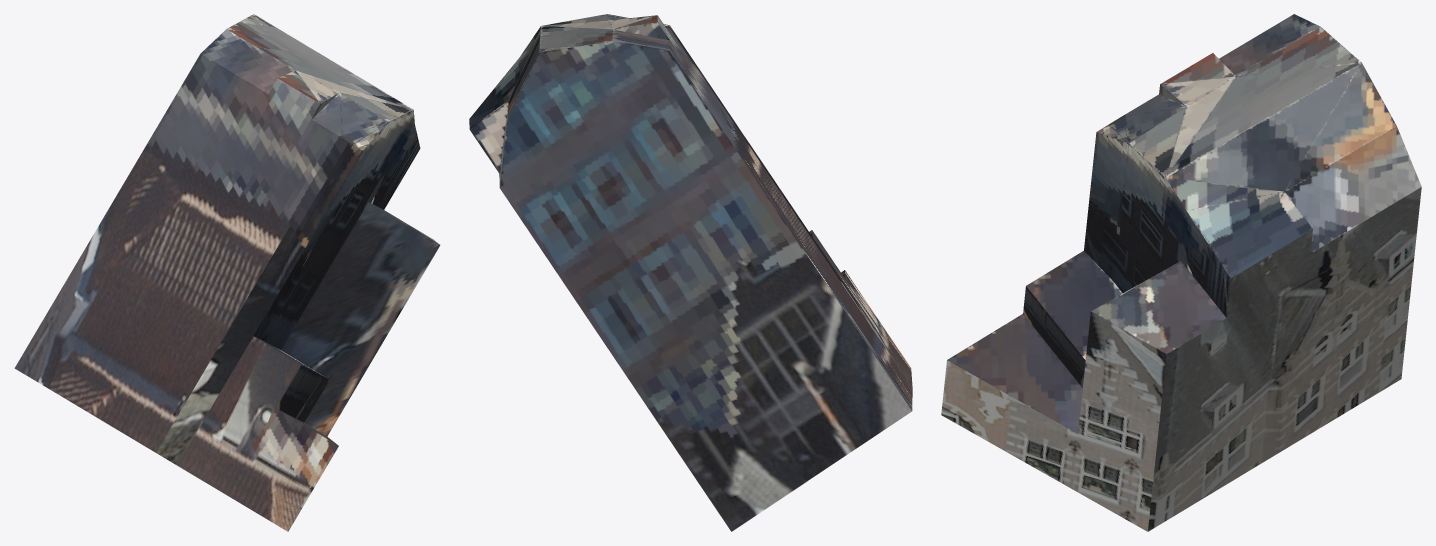
3 renders of one model, left to right at view 1: azimuth 30°, elevation 25°; view 2: azimuth 150°, elevation 25°; view 3: azimuth 270°, elevation 25°, orthographic. The views are drawn at different scales.
Visible parts, largest first — view 1: BAG_0599100000650101 (×6); view 2: BAG_0599100000650101 (×5); view 3: BAG_0599100000650101 (×6).
Boxes of the visible parts, <box> form: BAG_0599100000650101 (×6): <box>14,14,440,531</box>; BAG_0599100000650101 (×5): <box>469,14,912,531</box>; BAG_0599100000650101 (×6): <box>941,14,1421,531</box>.
Size of the model in its own units: 15.68 by 16.55 by 13.81.
1 material, 1 textured.
